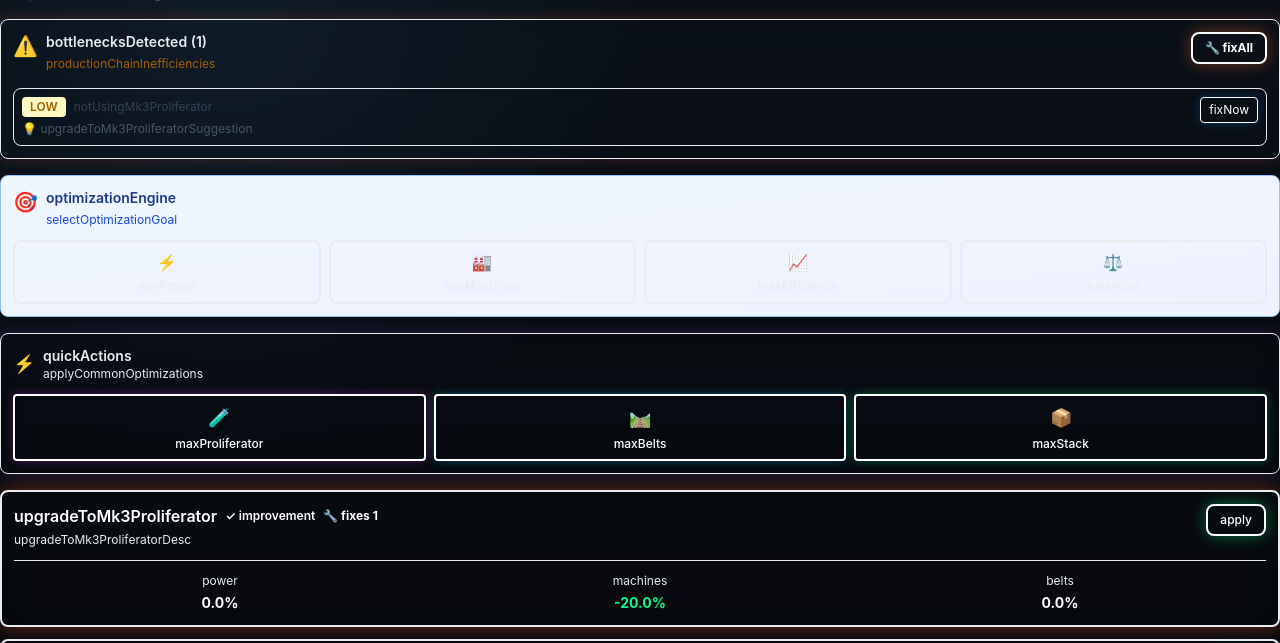
Scenario: WhatIfSimulator › シナリオの切り替え（toggle）が動作する
Click the button "upgradeToMk3Proliferator": (116, 516) [14,504,1198,548]
(page scrolled)
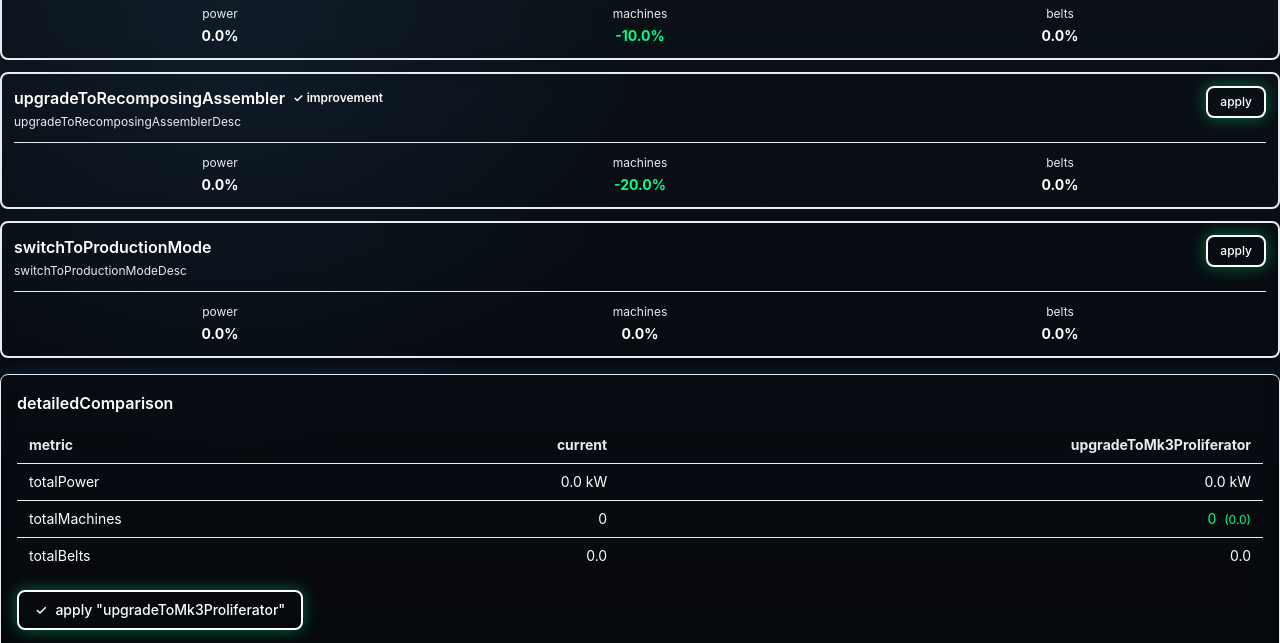
Result: the heading "detailedComparison" is shown at [17,393,173,413]
